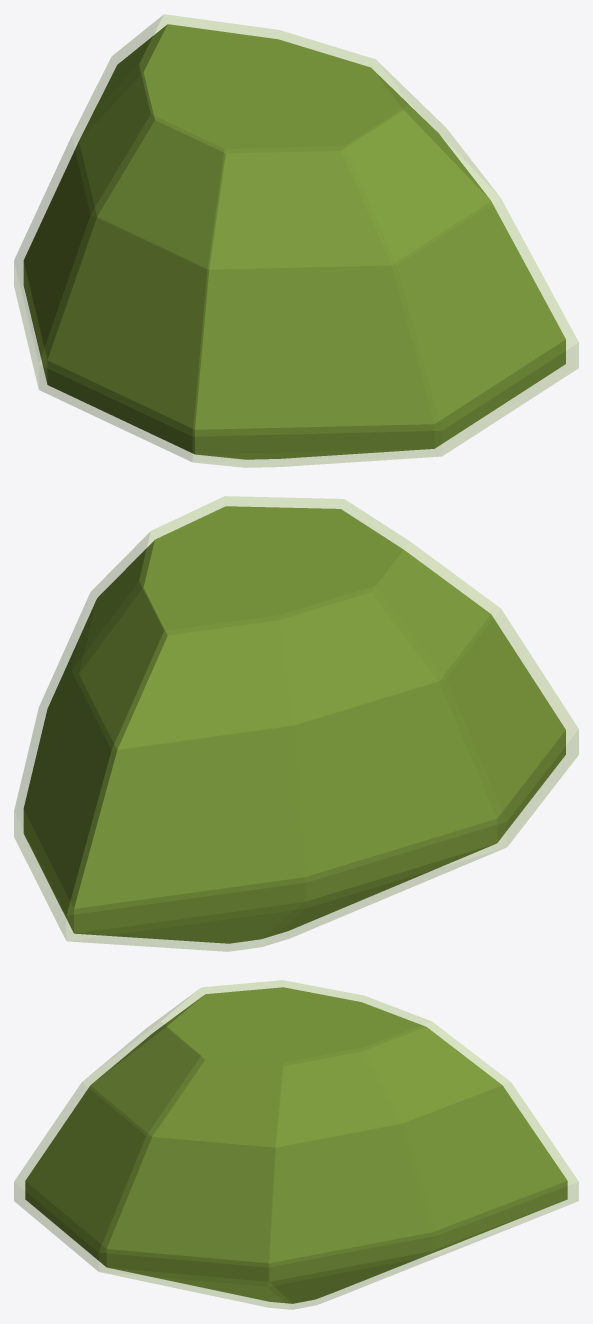
Rendered from item_gem9.glb.
The picture shows the model from 3 angles, top to bottom: view 1: azimuth 30°, elevation 25°; view 2: azimuth 150°, elevation 25°; view 3: azimuth 270°, elevation 25°; orthographic projection. The views are drawn at different scales.
Parts seen in each view (by area): view 1: jewellery_gem9_glass, jewellery_gem9; view 2: jewellery_gem9_glass, jewellery_gem9; view 3: jewellery_gem9_glass, jewellery_gem9.
Boxes of the visible parts, bbox=[...] form: jewellery_gem9_glass: bbox=[14, 14, 578, 467]; jewellery_gem9: bbox=[23, 24, 565, 459]; jewellery_gem9_glass: bbox=[14, 496, 578, 951]; jewellery_gem9: bbox=[23, 506, 565, 943]; jewellery_gem9_glass: bbox=[14, 980, 578, 1309]; jewellery_gem9: bbox=[25, 987, 567, 1303].
Bounding box in the file's own units: 0.72 × 0.54 × 1.
